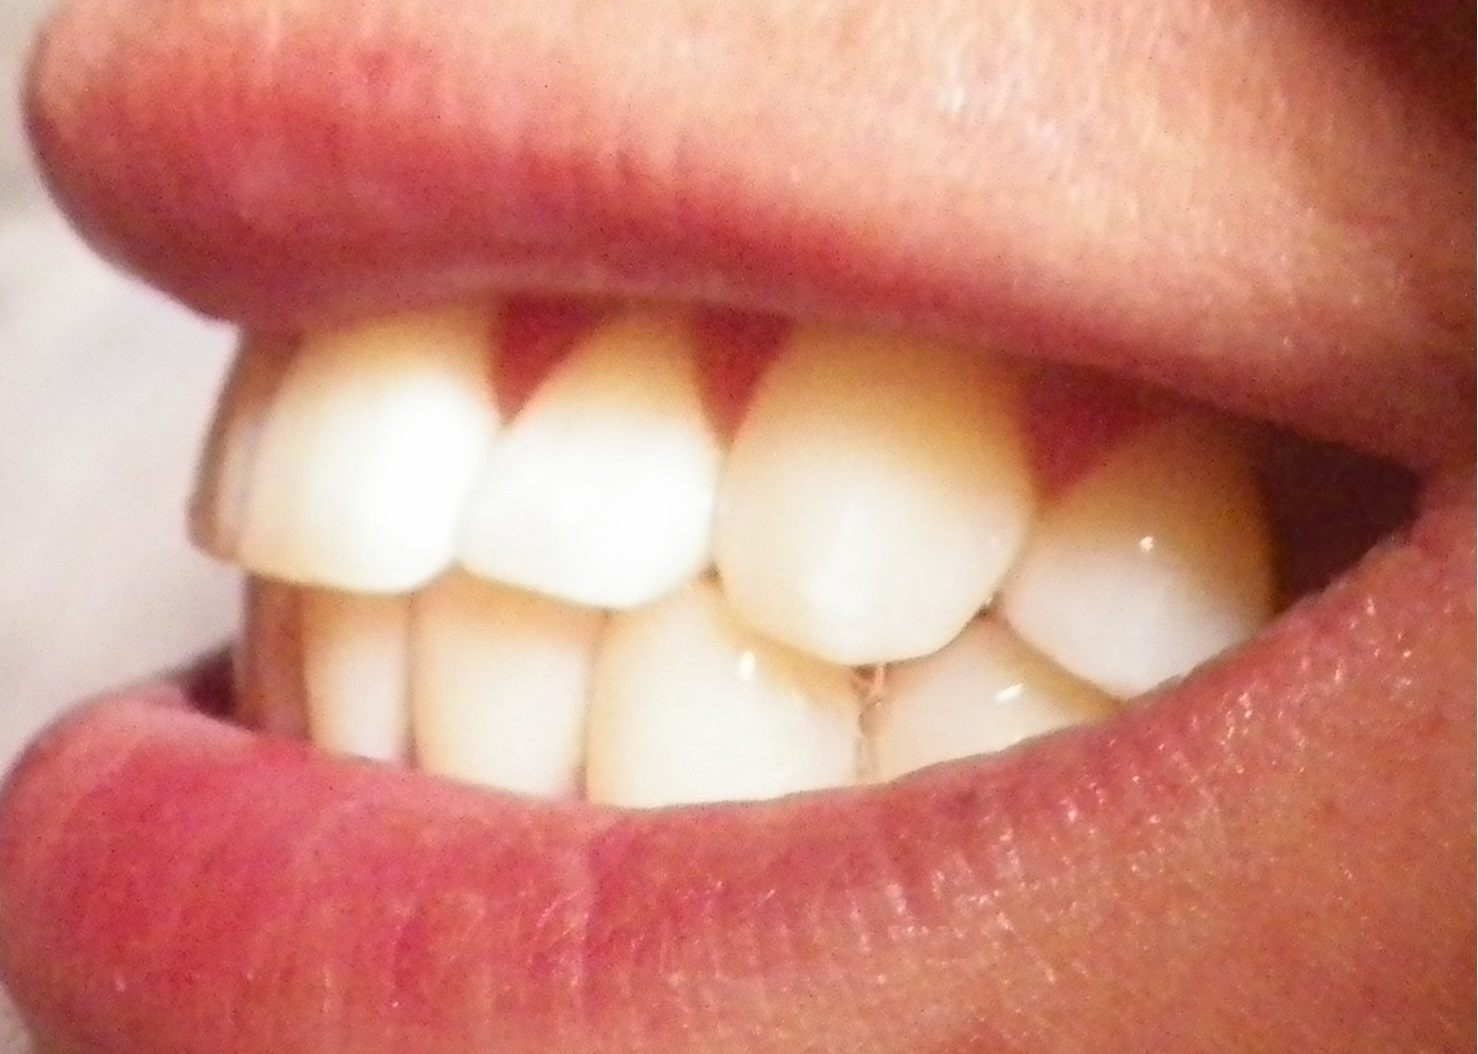boca: (190, 313, 1275, 800)
